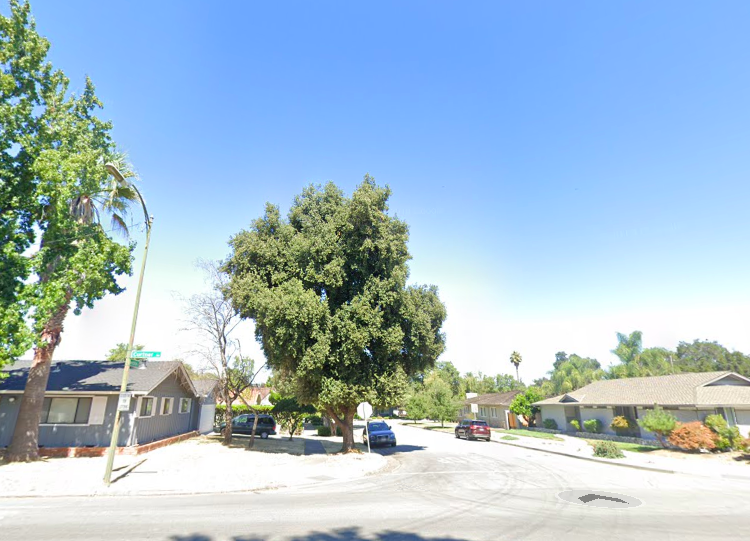tree: (213, 173, 448, 453)
